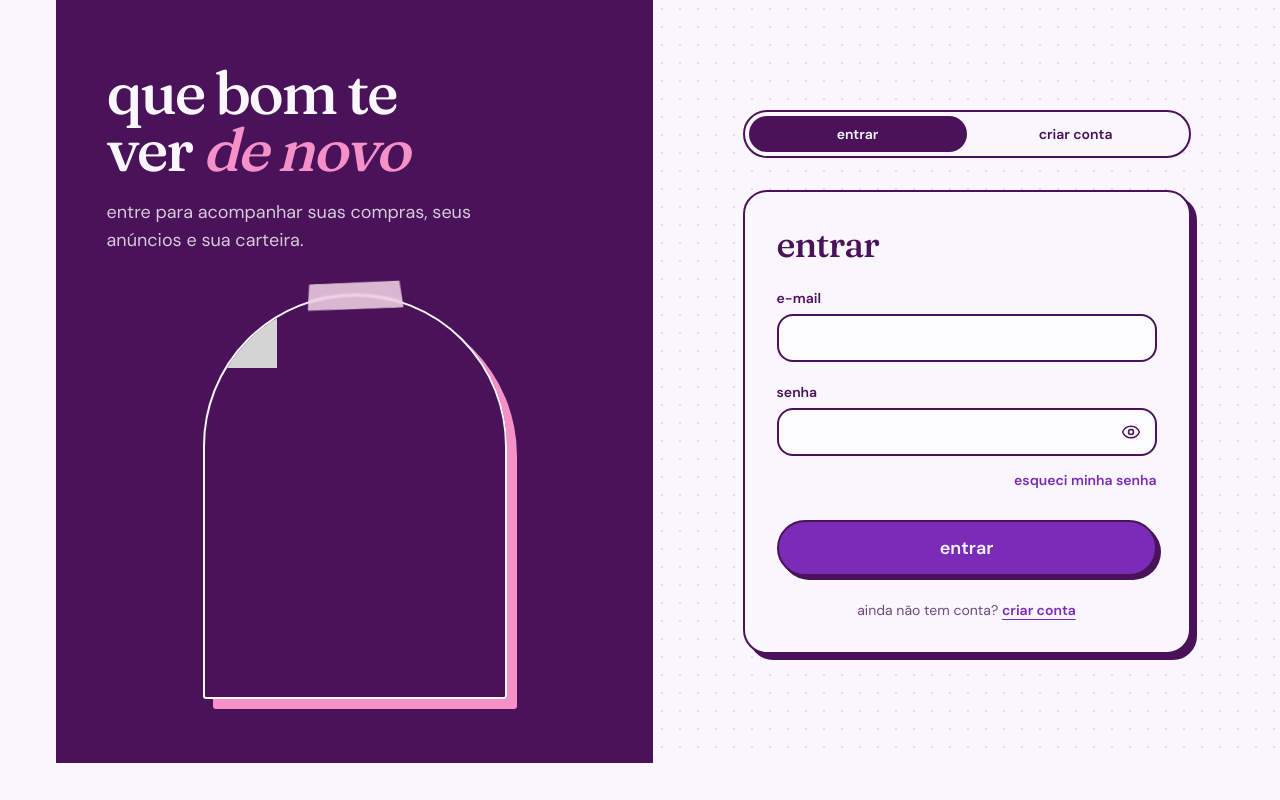
Test: PaginaConta › mensagem genérica para credenciais inválidas
This screenshot has width=1280, height=800.
In the field labelled "e-mail": (966, 338) [776,314,1156,362], type "ana@exemplo.com"
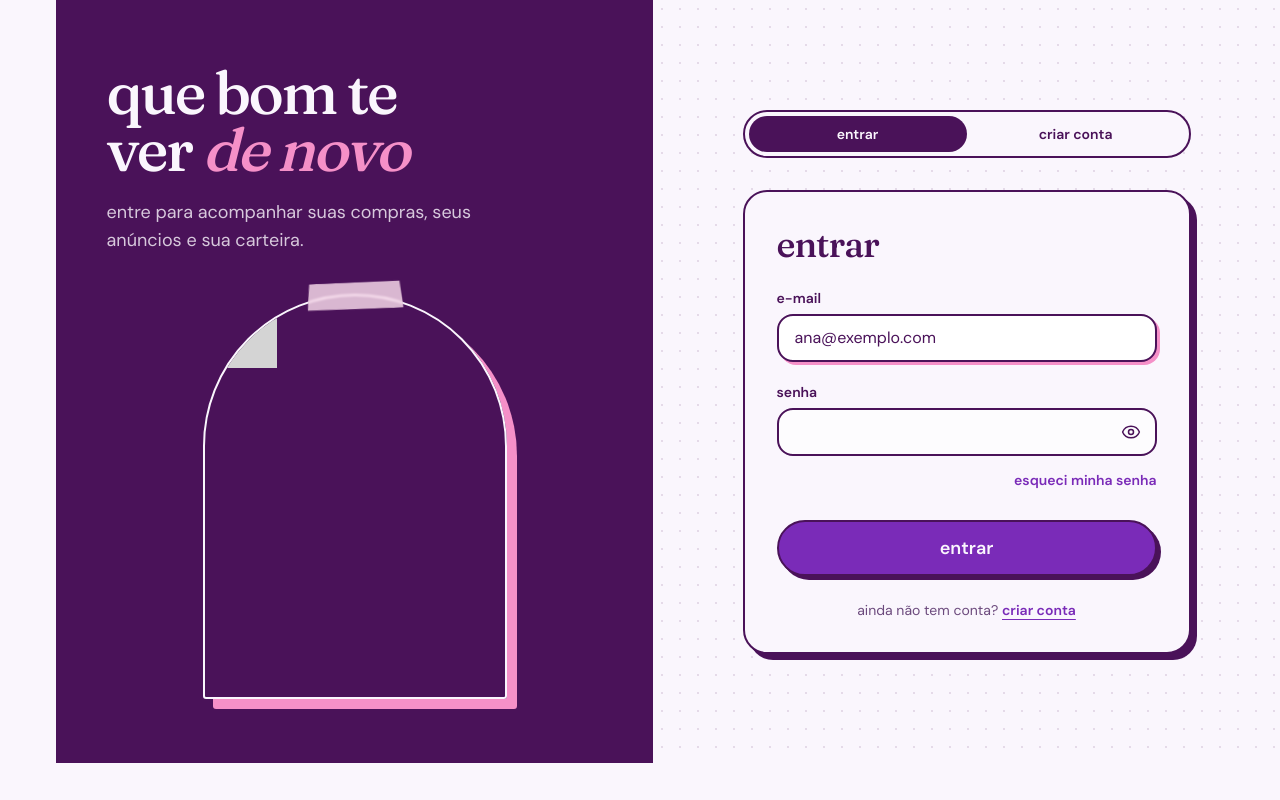
In the password field labelled "senha": (966, 432) [776,408,1156,456], type "errada123"
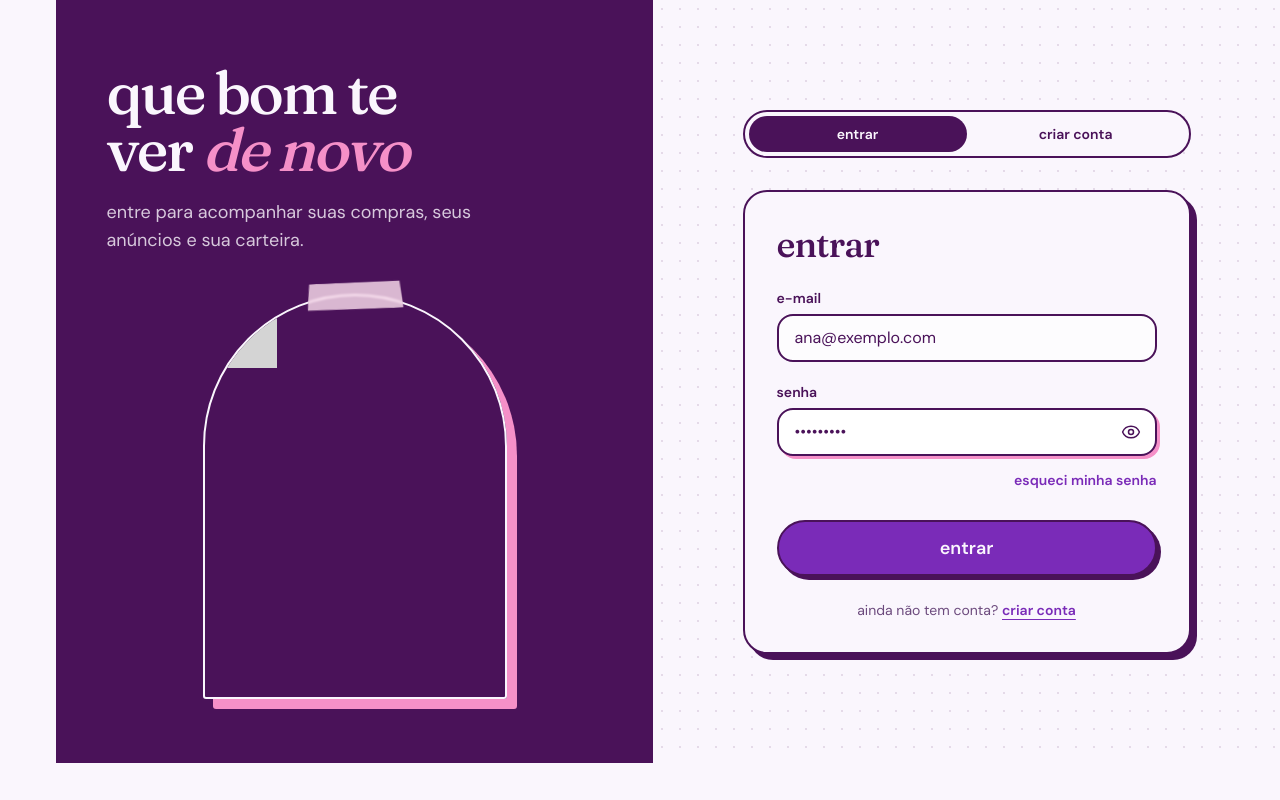
Click the button "entrar": (966, 548) [776,520,1156,576]
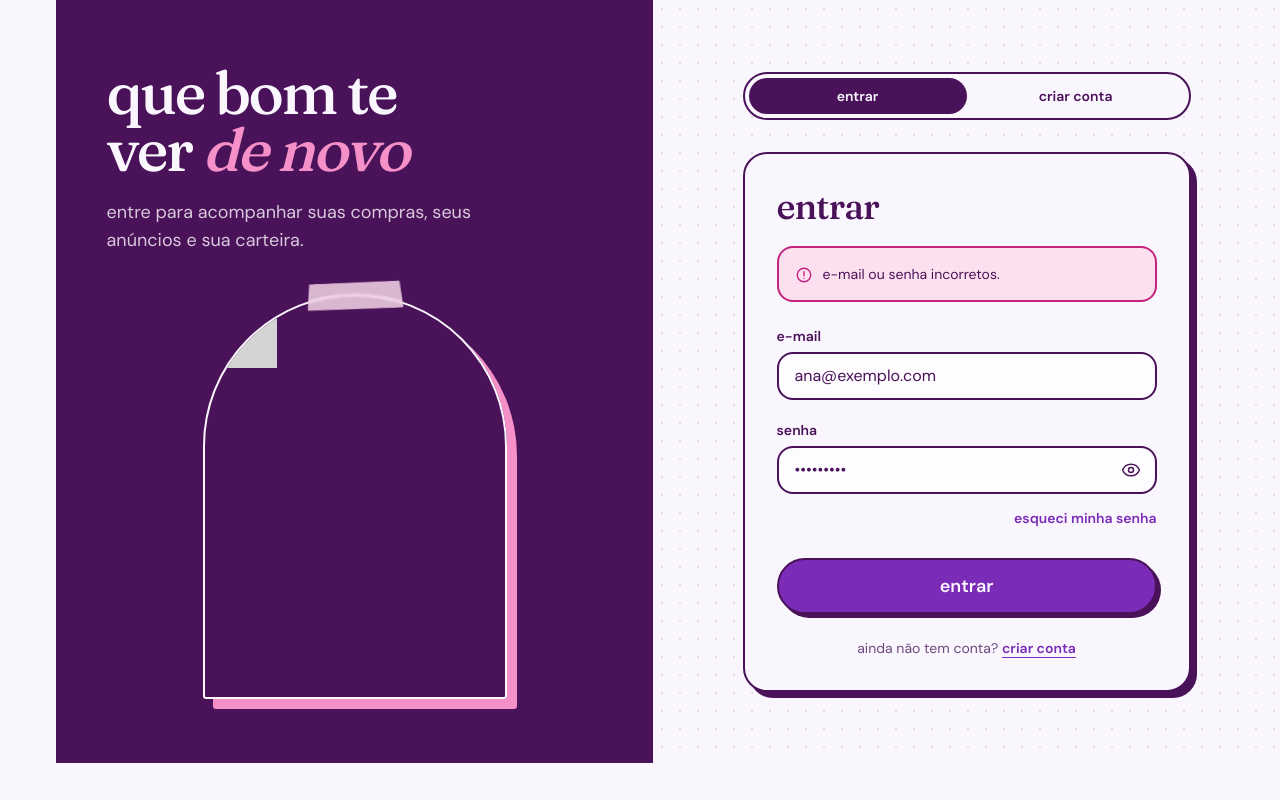
Now the message reads "e-mail ou senha incorretos.", box [822,265,1000,283]
